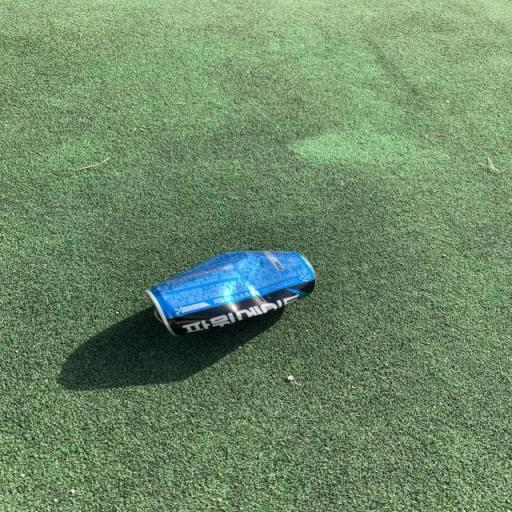metal: (116, 232, 364, 351)
